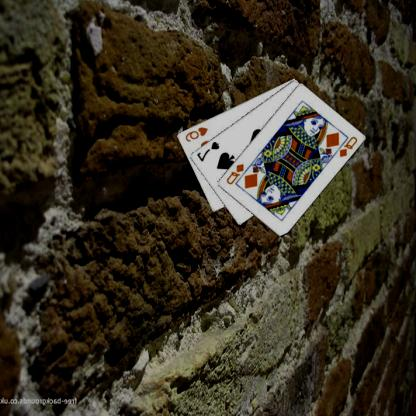6H: (184, 125, 210, 143)
7S: (196, 139, 222, 162)
QD: (225, 161, 247, 186), (338, 134, 360, 158)
